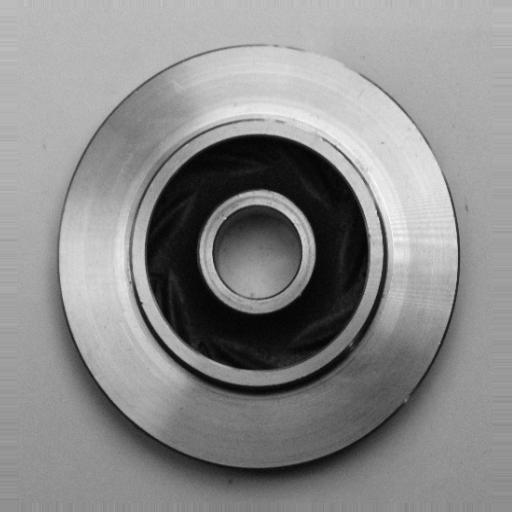unpolished_casting: (55, 41, 460, 474)
